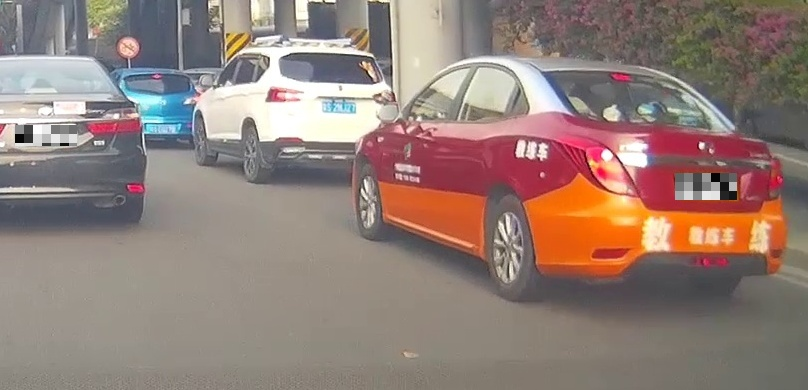L_light: (585, 145, 640, 198), (265, 87, 304, 102)
R_light: (767, 158, 784, 199), (372, 90, 396, 105)
T_light: (610, 73, 634, 81), (324, 53, 343, 57)
day-left: (481, 56, 786, 299)
day-no: (263, 44, 398, 186)
plate_1: (15, 125, 77, 146)
plate_2: (675, 173, 737, 200)
